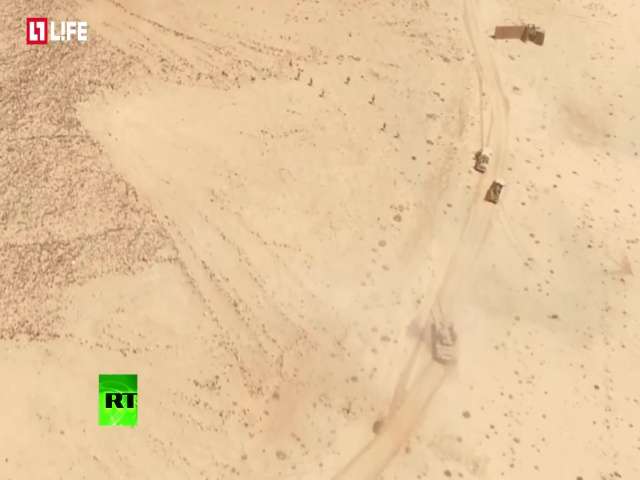vehicle: (429, 312, 463, 367), (483, 174, 508, 206), (473, 144, 495, 174)
